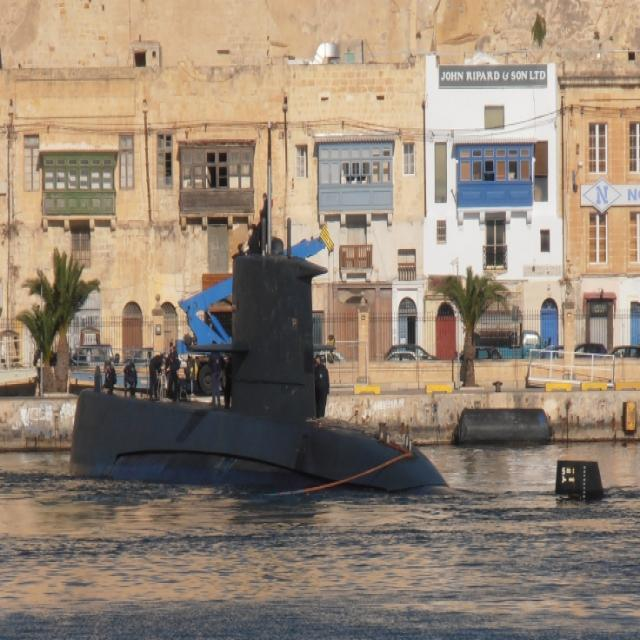submarine: (62, 217, 454, 495)
